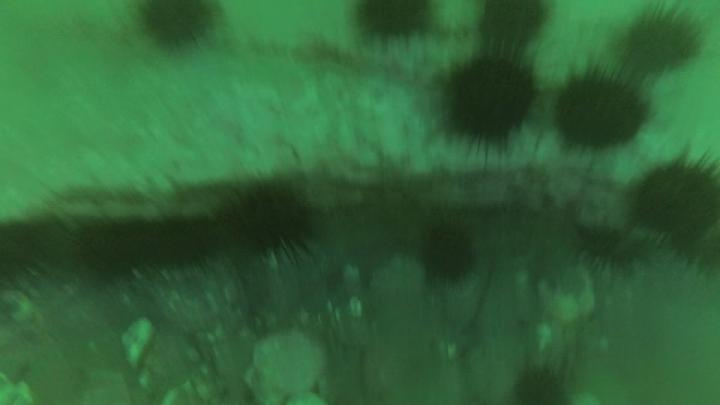echinus: (448, 61, 538, 141), (558, 74, 646, 148), (637, 165, 720, 240), (232, 193, 310, 258), (623, 15, 696, 73), (73, 228, 138, 285), (144, 1, 211, 46), (424, 225, 476, 281), (357, 1, 430, 40), (150, 225, 209, 270), (483, 2, 546, 44), (2, 222, 47, 278), (579, 227, 631, 273), (513, 372, 561, 405)
scallop: (238, 330, 324, 405)
